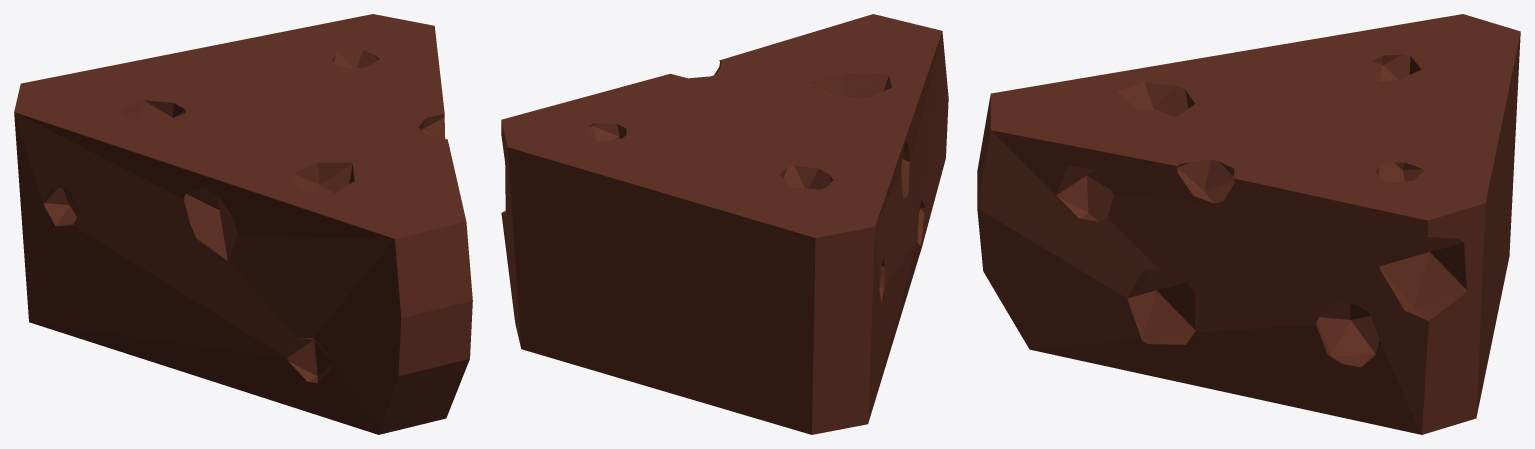
File: Cheese.fbx
The picture shows the model from 3 angles, left to right: view 1: azimuth 30°, elevation 25°; view 2: azimuth 150°, elevation 25°; view 3: azimuth 270°, elevation 25°; orthographic projection. The views are drawn at different scales.
Visible parts, largest first — view 1: Cheese; view 2: Cheese; view 3: Cheese.
Part boxes in pixels (x1=…): Cheese: x1=14, y1=14, x2=472, y2=434; Cheese: x1=501, y1=14, x2=948, y2=434; Cheese: x1=977, y1=14, x2=1520, y2=434.
Size of the model in its own units: 19.21 by 9.55 by 21.35.
